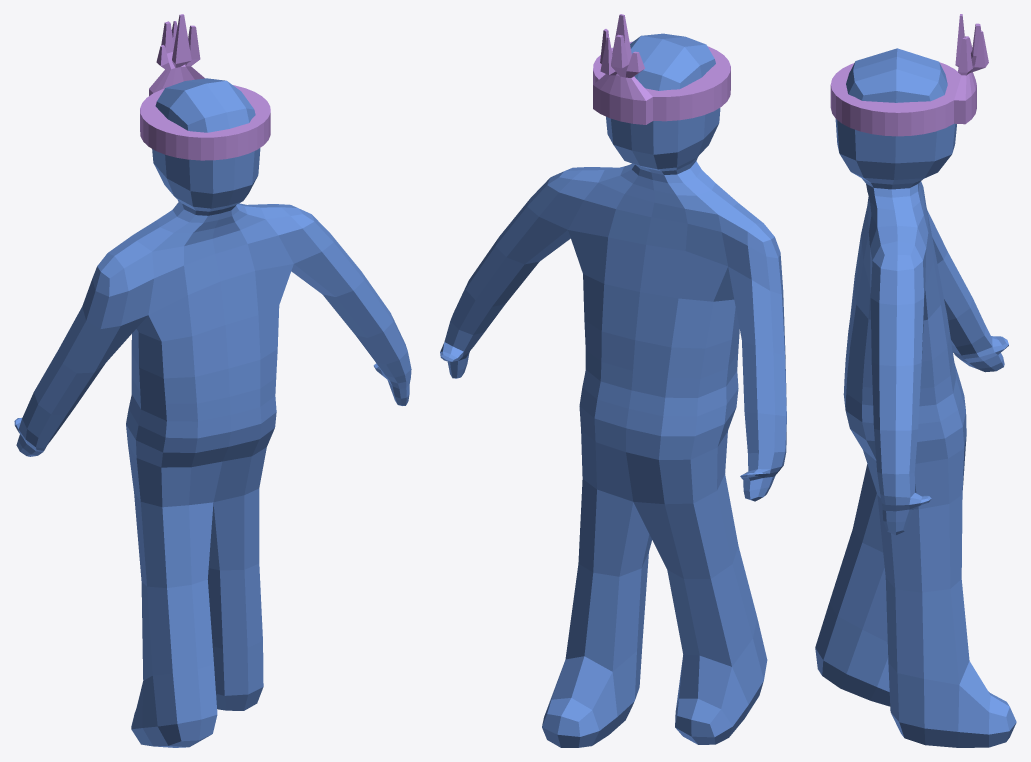
Rendered from Man.fbx.
The picture shows the model from 3 angles, left to right: view 1: azimuth 30°, elevation 25°; view 2: azimuth 150°, elevation 25°; view 3: azimuth 270°, elevation 25°; orthographic projection. The views are drawn at different scales.
Visible parts, largest first — view 1: Cube.001, Cylinder; view 2: Cube.001, Cylinder; view 3: Cube.001, Cylinder.
Boxes of the visible parts, x1,y1,x2,y2 form: Cube.001: (14, 78, 411, 747); Cylinder: (140, 14, 270, 160); Cube.001: (440, 33, 786, 747); Cylinder: (593, 14, 730, 124); Cube.001: (815, 48, 1016, 747); Cylinder: (830, 14, 988, 136).
Bounding box in the file's own units: 899 × 1705 × 435.
